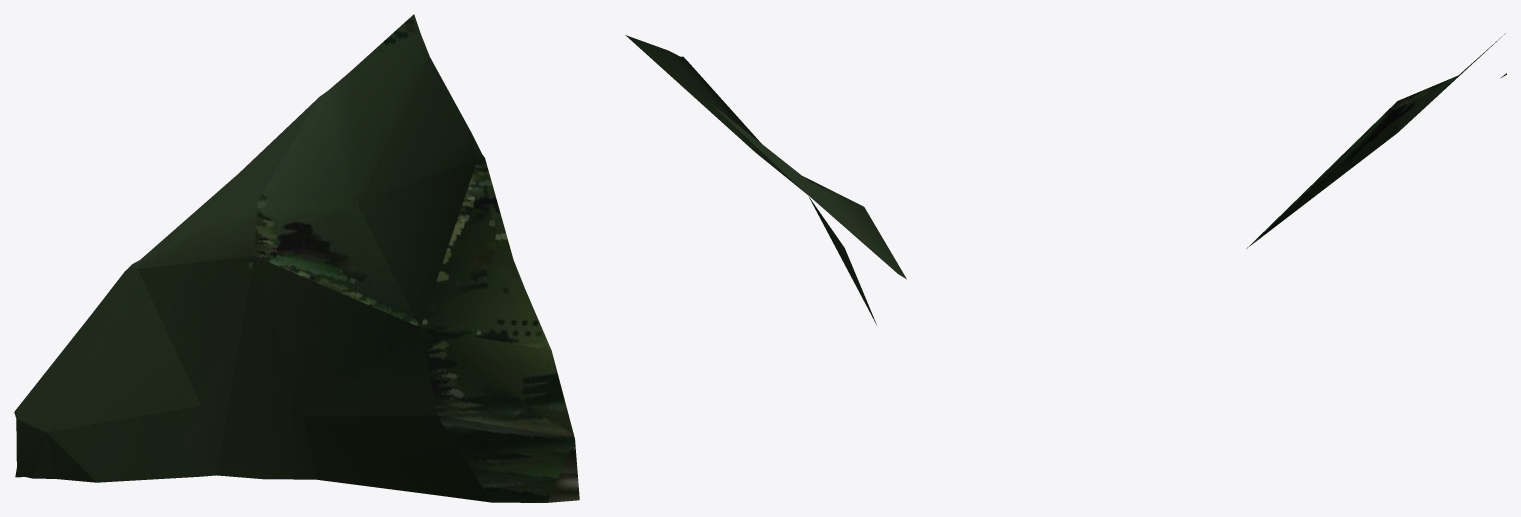
The picture shows the model from 3 angles, left to right: view 1: azimuth 30°, elevation 25°; view 2: azimuth 150°, elevation 25°; view 3: azimuth 270°, elevation 25°; orthographic projection. The views are drawn at different scales.
Bounding box in the file's own units: 1.67 × 1.46 × 1.2.
Materials: 2 (2 with a texture image).
